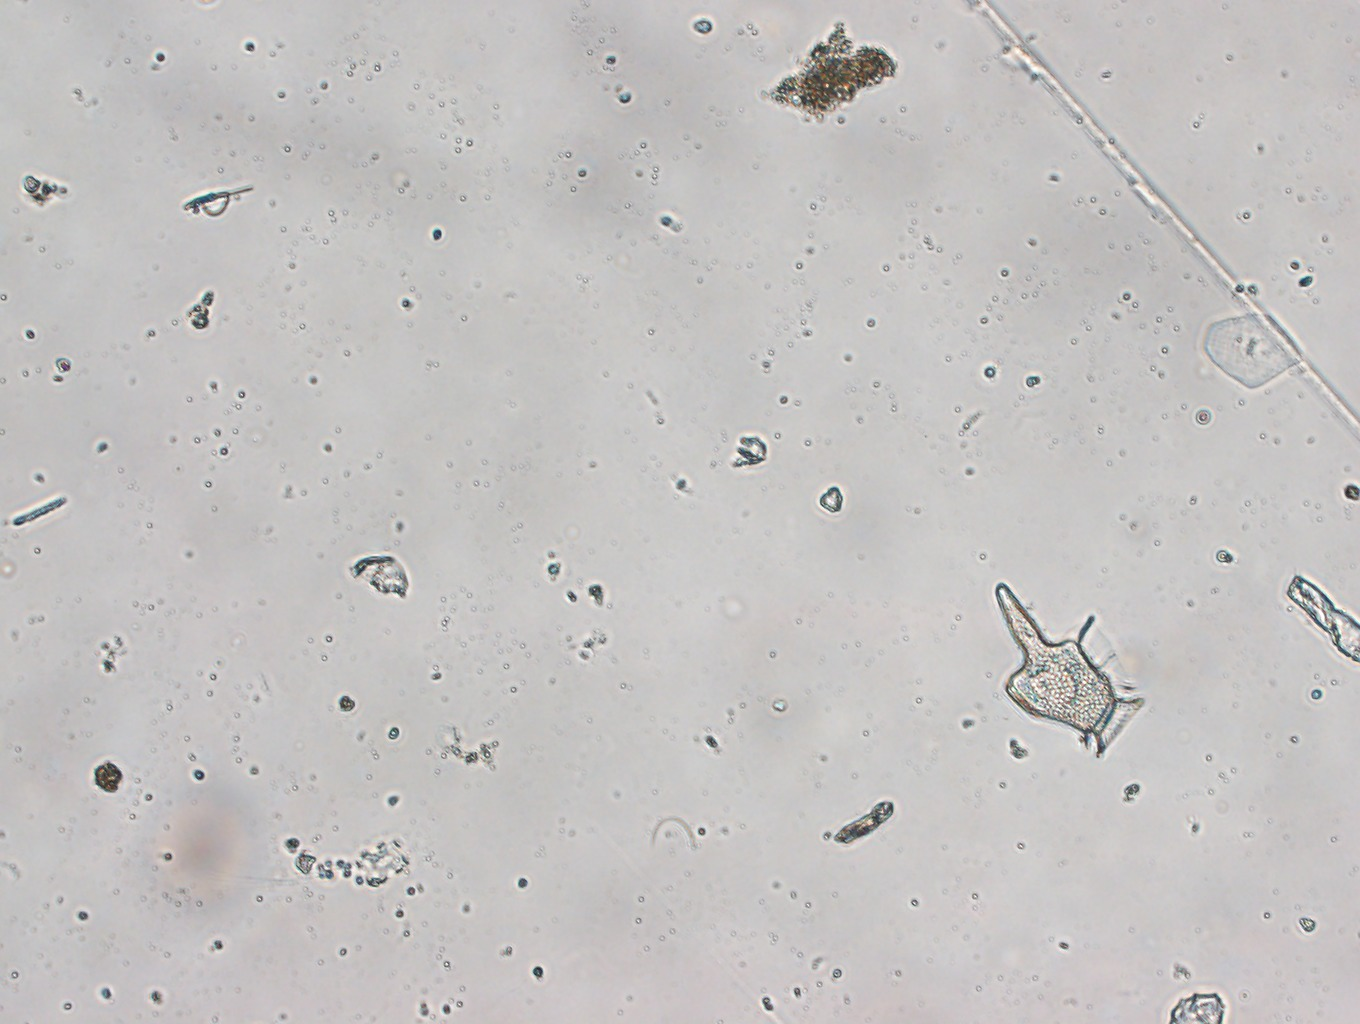dinophysis caudata: (993, 580, 1147, 755)
